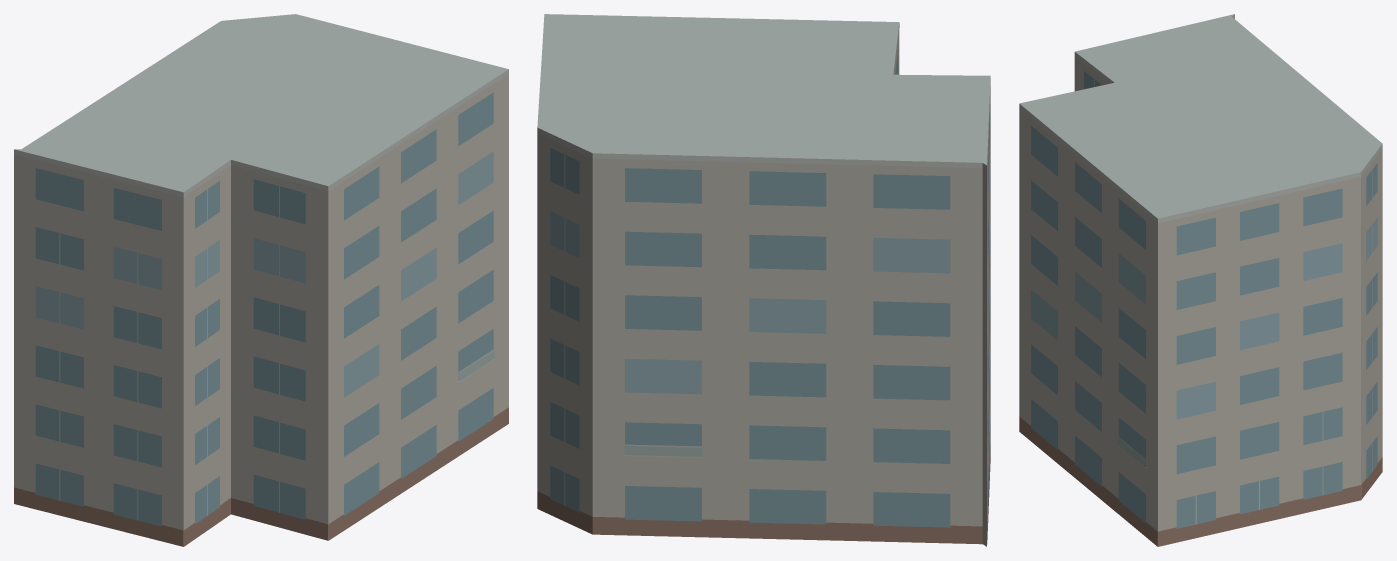
The model's file is survey-upis-32863825.glb.
3 renders of one model, left to right at view 1: azimuth 30°, elevation 25°; view 2: azimuth 150°, elevation 25°; view 3: azimuth 270°, elevation 25°, orthographic. The views are drawn at different scales.
Visible parts, largest first — view 1: survey-upis-32863825.tmp; view 2: survey-upis-32863825.tmp; view 3: survey-upis-32863825.tmp.
Boxes of the visible parts, x1=… form: survey-upis-32863825.tmp: x1=14, y1=14, x2=508, y2=546; survey-upis-32863825.tmp: x1=537, y1=14, x2=990, y2=546; survey-upis-32863825.tmp: x1=1019, y1=14, x2=1382, y2=546.
Size of the model in its own units: 22.75 by 17 by 17.07.
